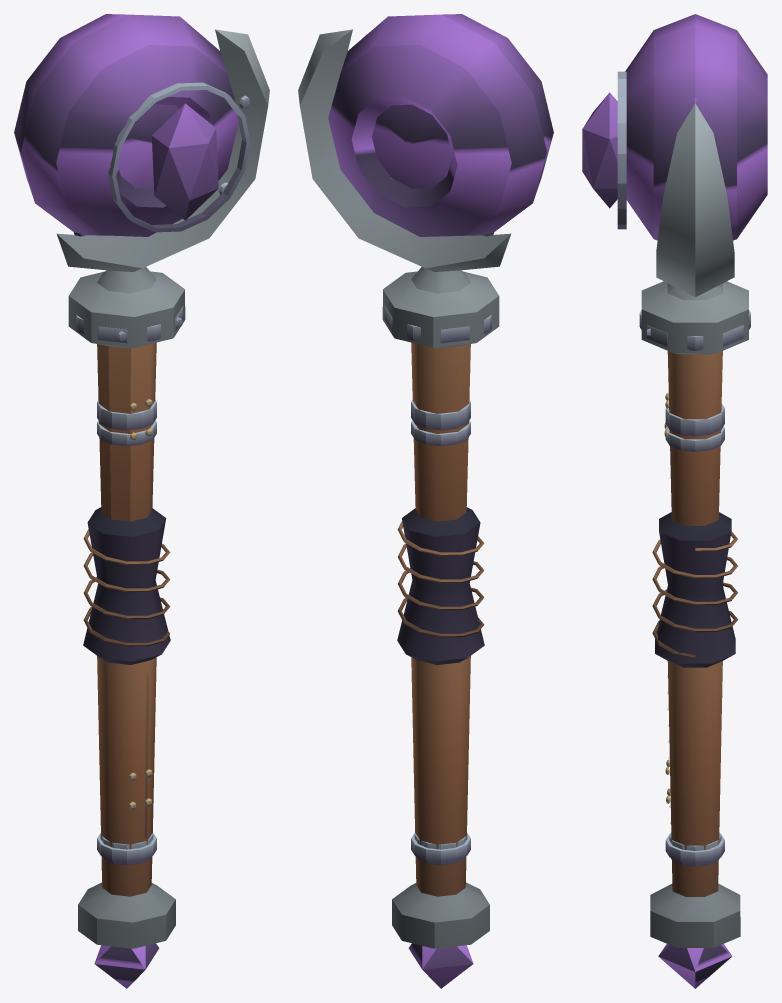
Rendered from baston_runico_t3.glb.
3 renders of one model, left to right at view 1: azimuth 30°, elevation 25°; view 2: azimuth 150°, elevation 25°; view 3: azimuth 270°, elevation 25°, orthographic.
Visible parts, largest first — view 1: baston_runico_t3_finished; view 2: baston_runico_t3_finished; view 3: baston_runico_t3_finished.
Boxes of the visible parts, bbox=[...] form: baston_runico_t3_finished: bbox=[14, 14, 269, 988]; baston_runico_t3_finished: bbox=[298, 14, 553, 988]; baston_runico_t3_finished: bbox=[582, 14, 767, 988].
Bounding box in the file's own units: 0.5762 × 2.15 × 0.3748.
2 materials, 2 textured.
